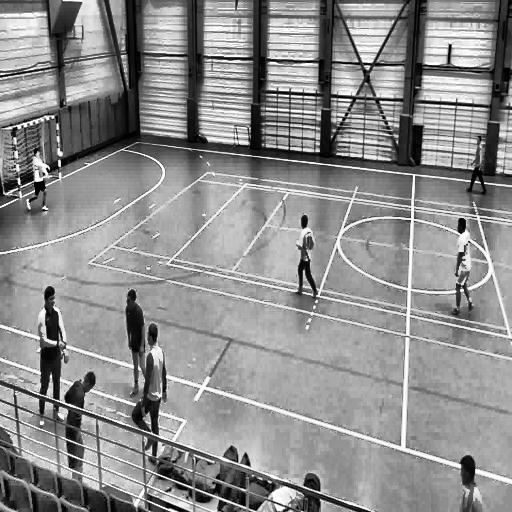ball: (58, 149, 64, 163)
player: (130, 324, 168, 470), (36, 285, 64, 430), (63, 367, 96, 487), (124, 284, 150, 402), (448, 217, 474, 321), (294, 216, 322, 302), (27, 146, 52, 214), (466, 135, 488, 197)
